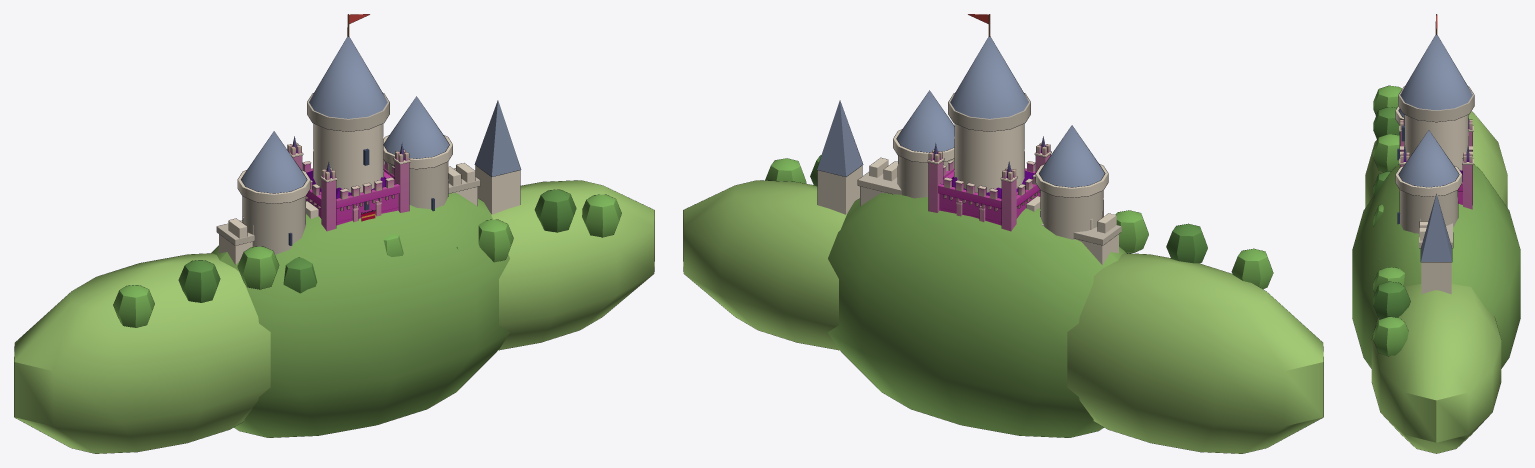
File: fps-kit-castle.glb
The picture shows the model from 3 angles, left to right: view 1: azimuth 30°, elevation 25°; view 2: azimuth 150°, elevation 25°; view 3: azimuth 270°, elevation 25°; orthographic projection. The views are drawn at different scales.
Visible parts, largest first — view 1: KIT_CASTLE_Backdrop_Hills, KIT_CASTLE_Backdrop_Rampart, KIT_CASTLE_Backdrop_Tower, KIT_CASTLE_Landmark_Keep, KIT_CASTLE_Backdrop_Village; view 2: KIT_CASTLE_Backdrop_Hills, KIT_CASTLE_Backdrop_Rampart, KIT_CASTLE_Backdrop_Tower, KIT_CASTLE_Landmark_Keep, KIT_CASTLE_Backdrop_Village; view 3: KIT_CASTLE_Backdrop_Hills, KIT_CASTLE_Backdrop_Tower, KIT_CASTLE_Backdrop_Rampart, KIT_CASTLE_Backdrop_Village, KIT_CASTLE_Landmark_Keep.
Boxes of the visible parts, left/top/right/bottom form: KIT_CASTLE_Backdrop_Hills: left=14, top=180, right=654, bottom=453; KIT_CASTLE_Backdrop_Rampart: left=216, top=96, right=480, bottom=264; KIT_CASTLE_Backdrop_Tower: left=307, top=14, right=389, bottom=210; KIT_CASTLE_Landmark_Keep: left=287, top=136, right=410, bottom=231; KIT_CASTLE_Backdrop_Village: left=474, top=100, right=521, bottom=214; KIT_CASTLE_Backdrop_Hills: left=683, top=155, right=1323, bottom=453; KIT_CASTLE_Backdrop_Rampart: left=857, top=90, right=1121, bottom=264; KIT_CASTLE_Backdrop_Tower: left=948, top=14, right=1030, bottom=192; KIT_CASTLE_Landmark_Keep: left=927, top=136, right=1051, bottom=231; KIT_CASTLE_Backdrop_Village: left=816, top=100, right=863, bottom=214; KIT_CASTLE_Backdrop_Hills: left=1352, top=85, right=1520, bottom=453; KIT_CASTLE_Backdrop_Tower: left=1398, top=14, right=1474, bottom=170; KIT_CASTLE_Backdrop_Rampart: left=1395, top=106, right=1462, bottom=248; KIT_CASTLE_Backdrop_Village: left=1420, top=193, right=1452, bottom=294; KIT_CASTLE_Landmark_Keep: left=1399, top=118, right=1473, bottom=209.
Bounding box in the file's own units: 89.99 × 55.42 × 22.3.
1 material, 1 textured.
